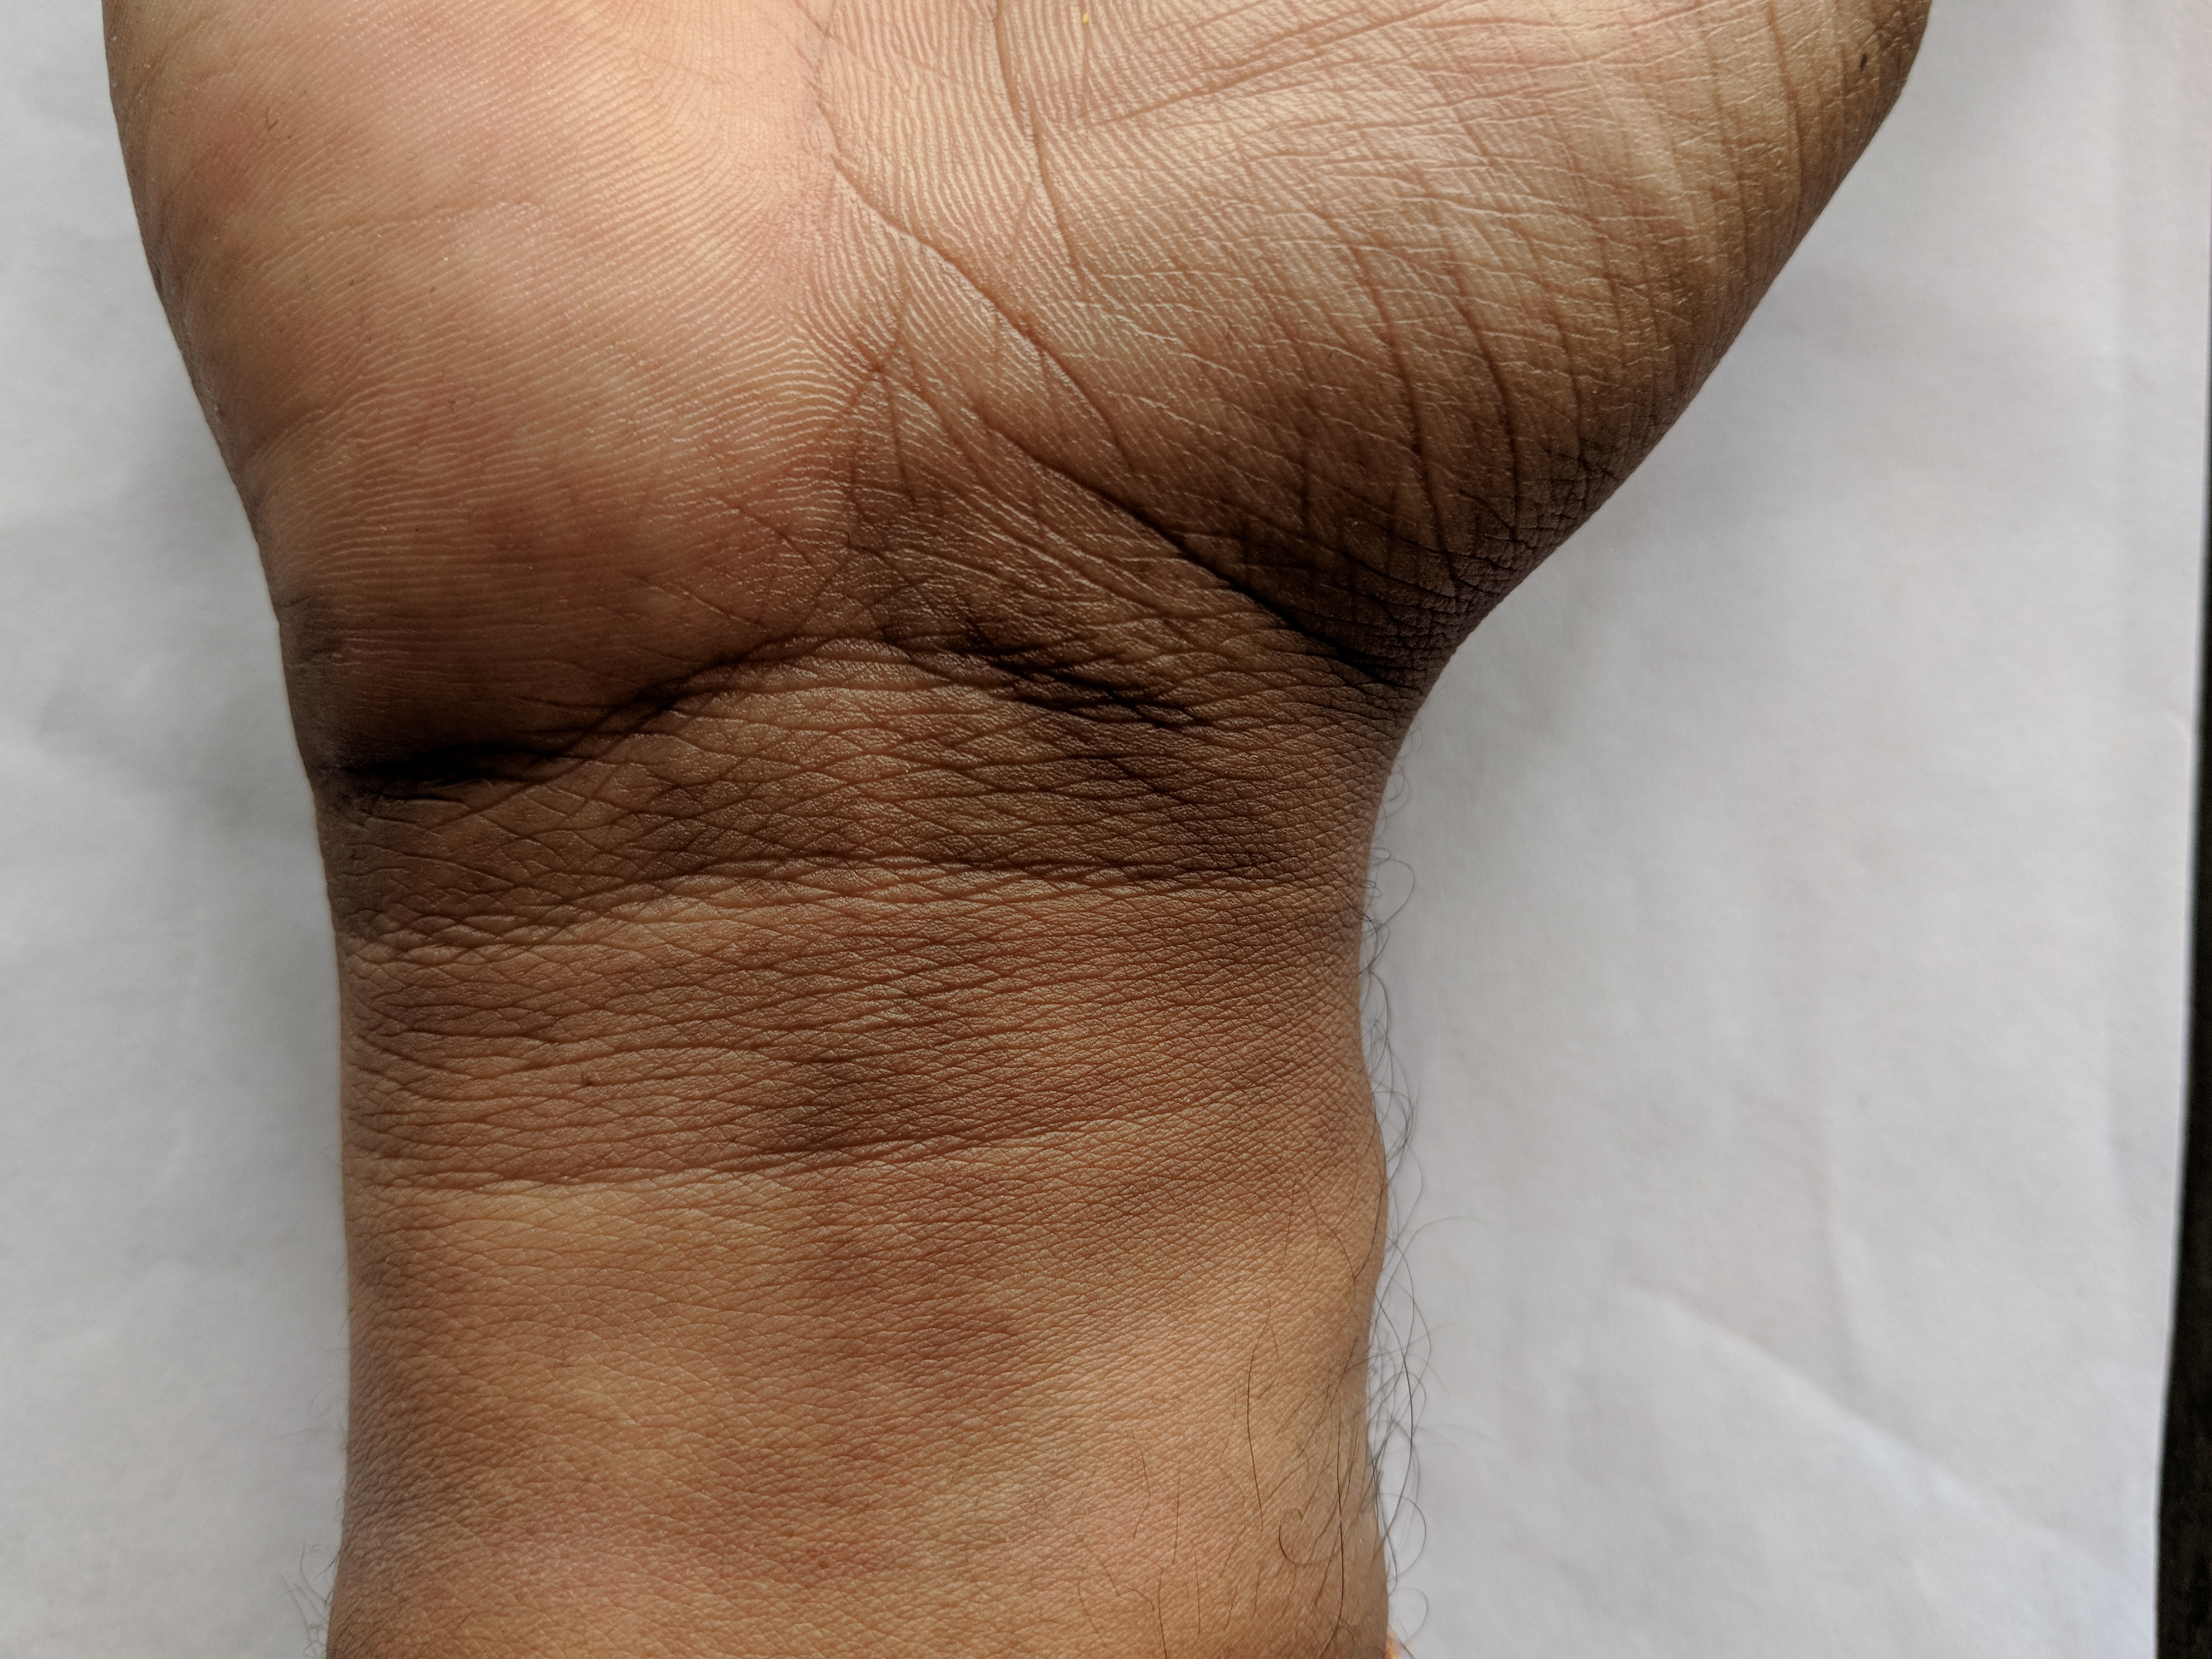righthandwrist: (268, 599, 1505, 1046)
